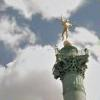Statue: (49, 14, 90, 72)
